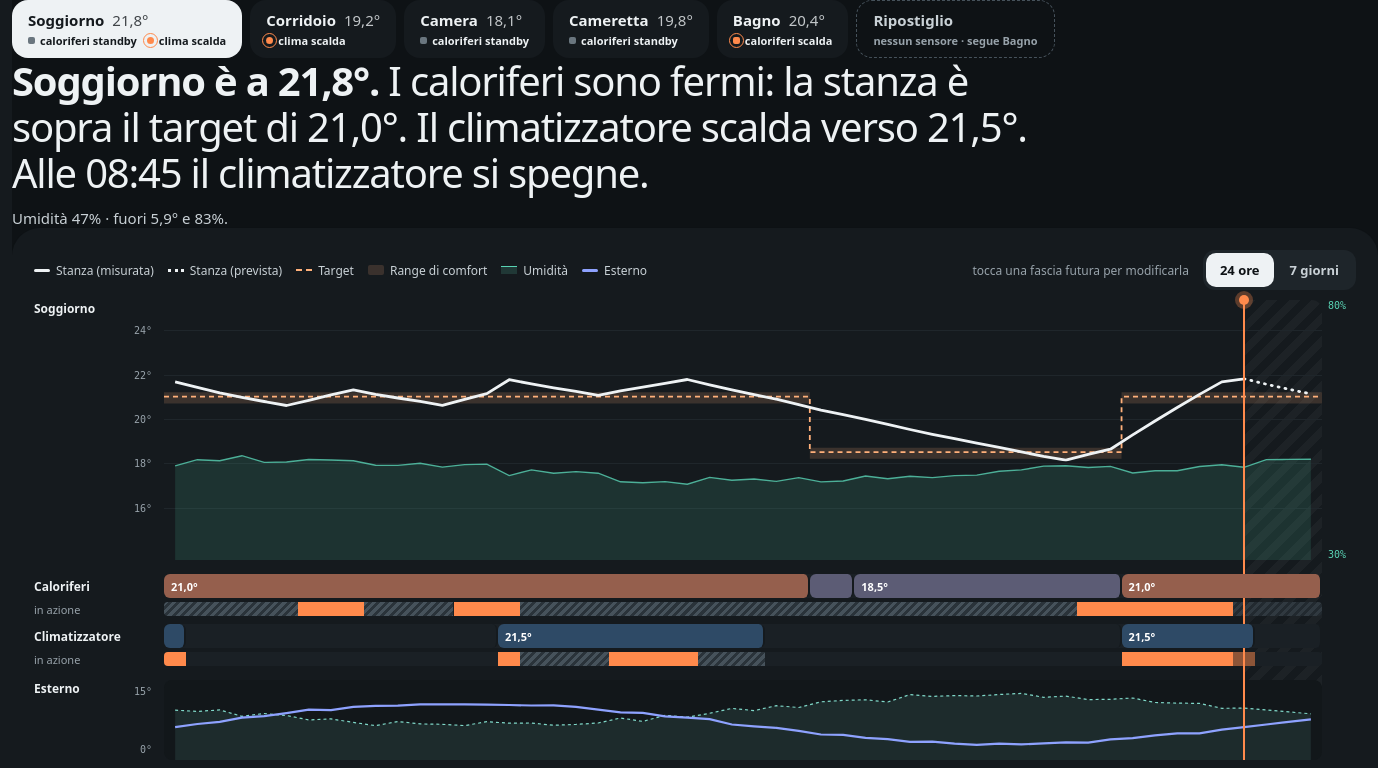
Test case: thermogram cursor › flips the tooltip to the left of the cursor past 60% of the width
Later steps or results of the test are not shown.
Focus the slider named "Cursore del grafico" at point(743, 430), box [164, 300, 1322, 560]
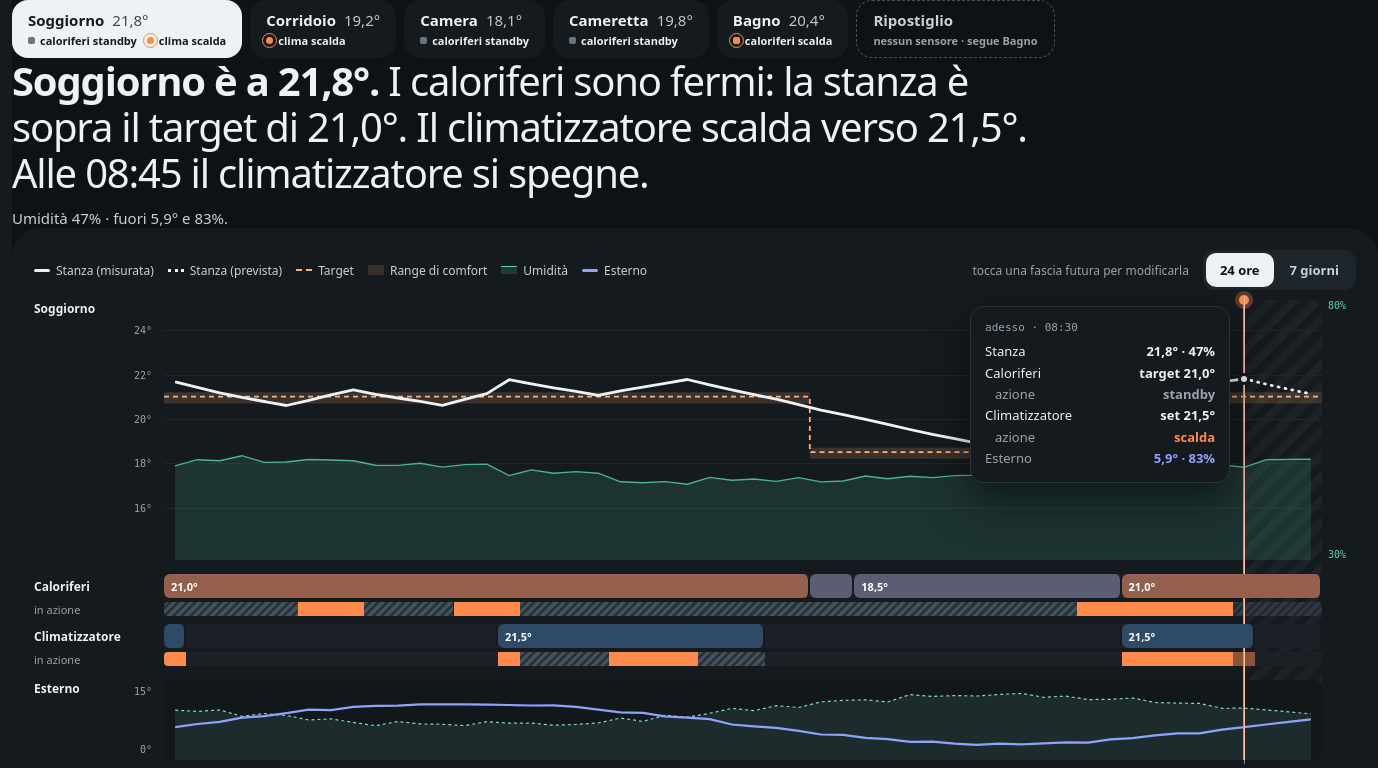
Press Home in the slider named "Cursore del grafico", box [164, 300, 1322, 560]
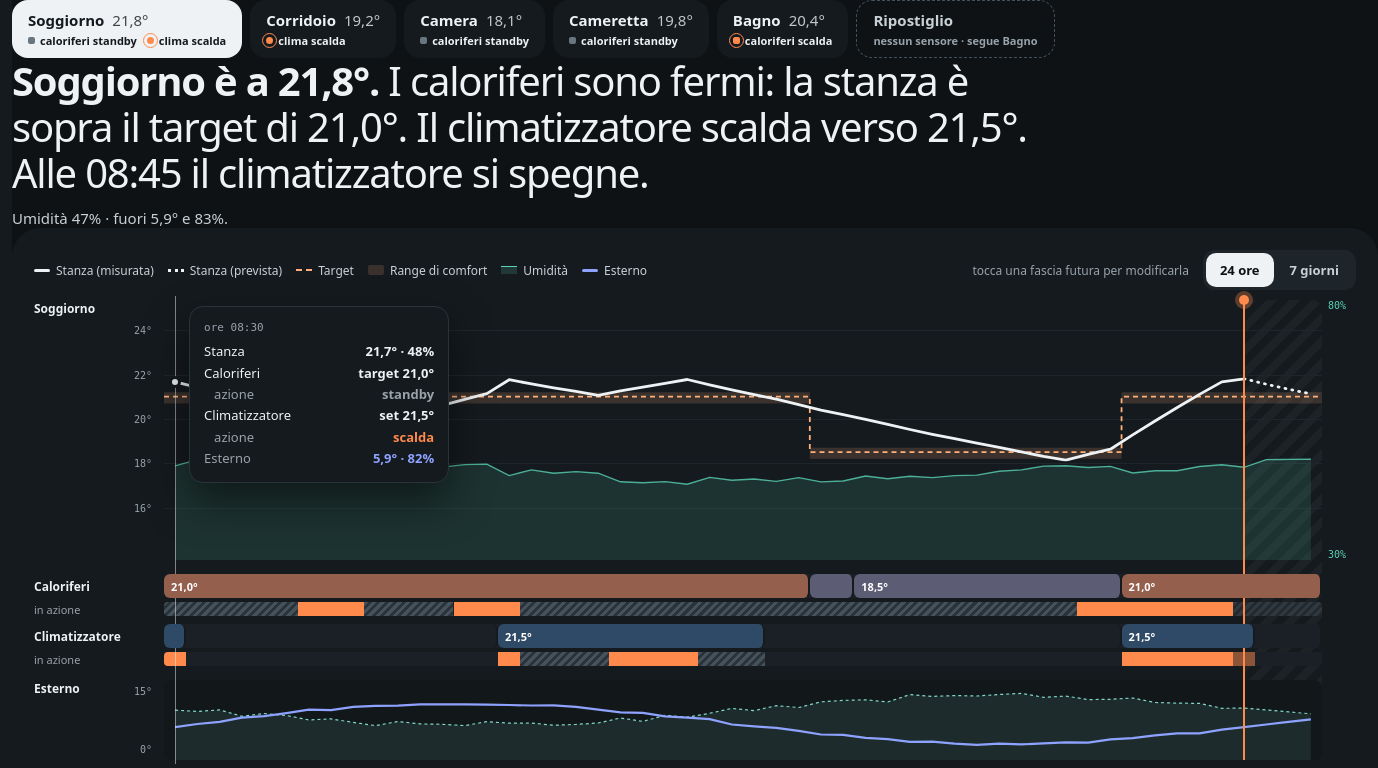
Expected: the element with test id "cursor-tooltip" has attribute data-side="right", [189, 306, 449, 483]
